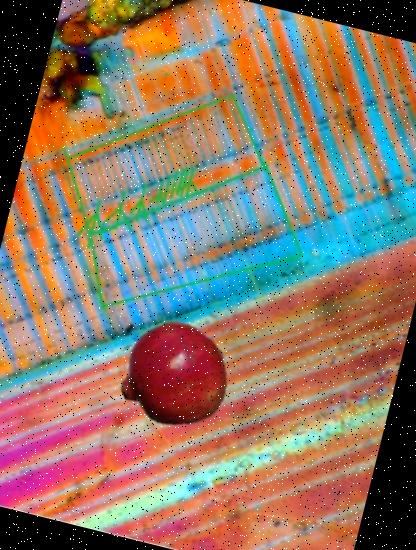Pomegranate: (109, 311, 240, 442)
